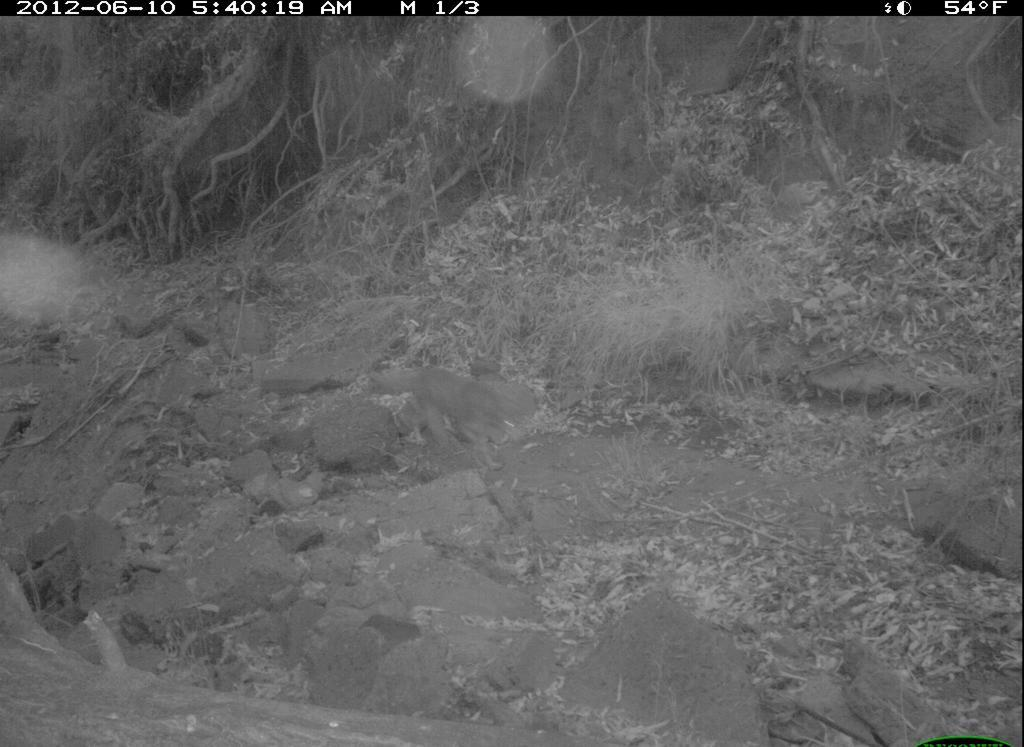coyote: (312, 327, 555, 477)
